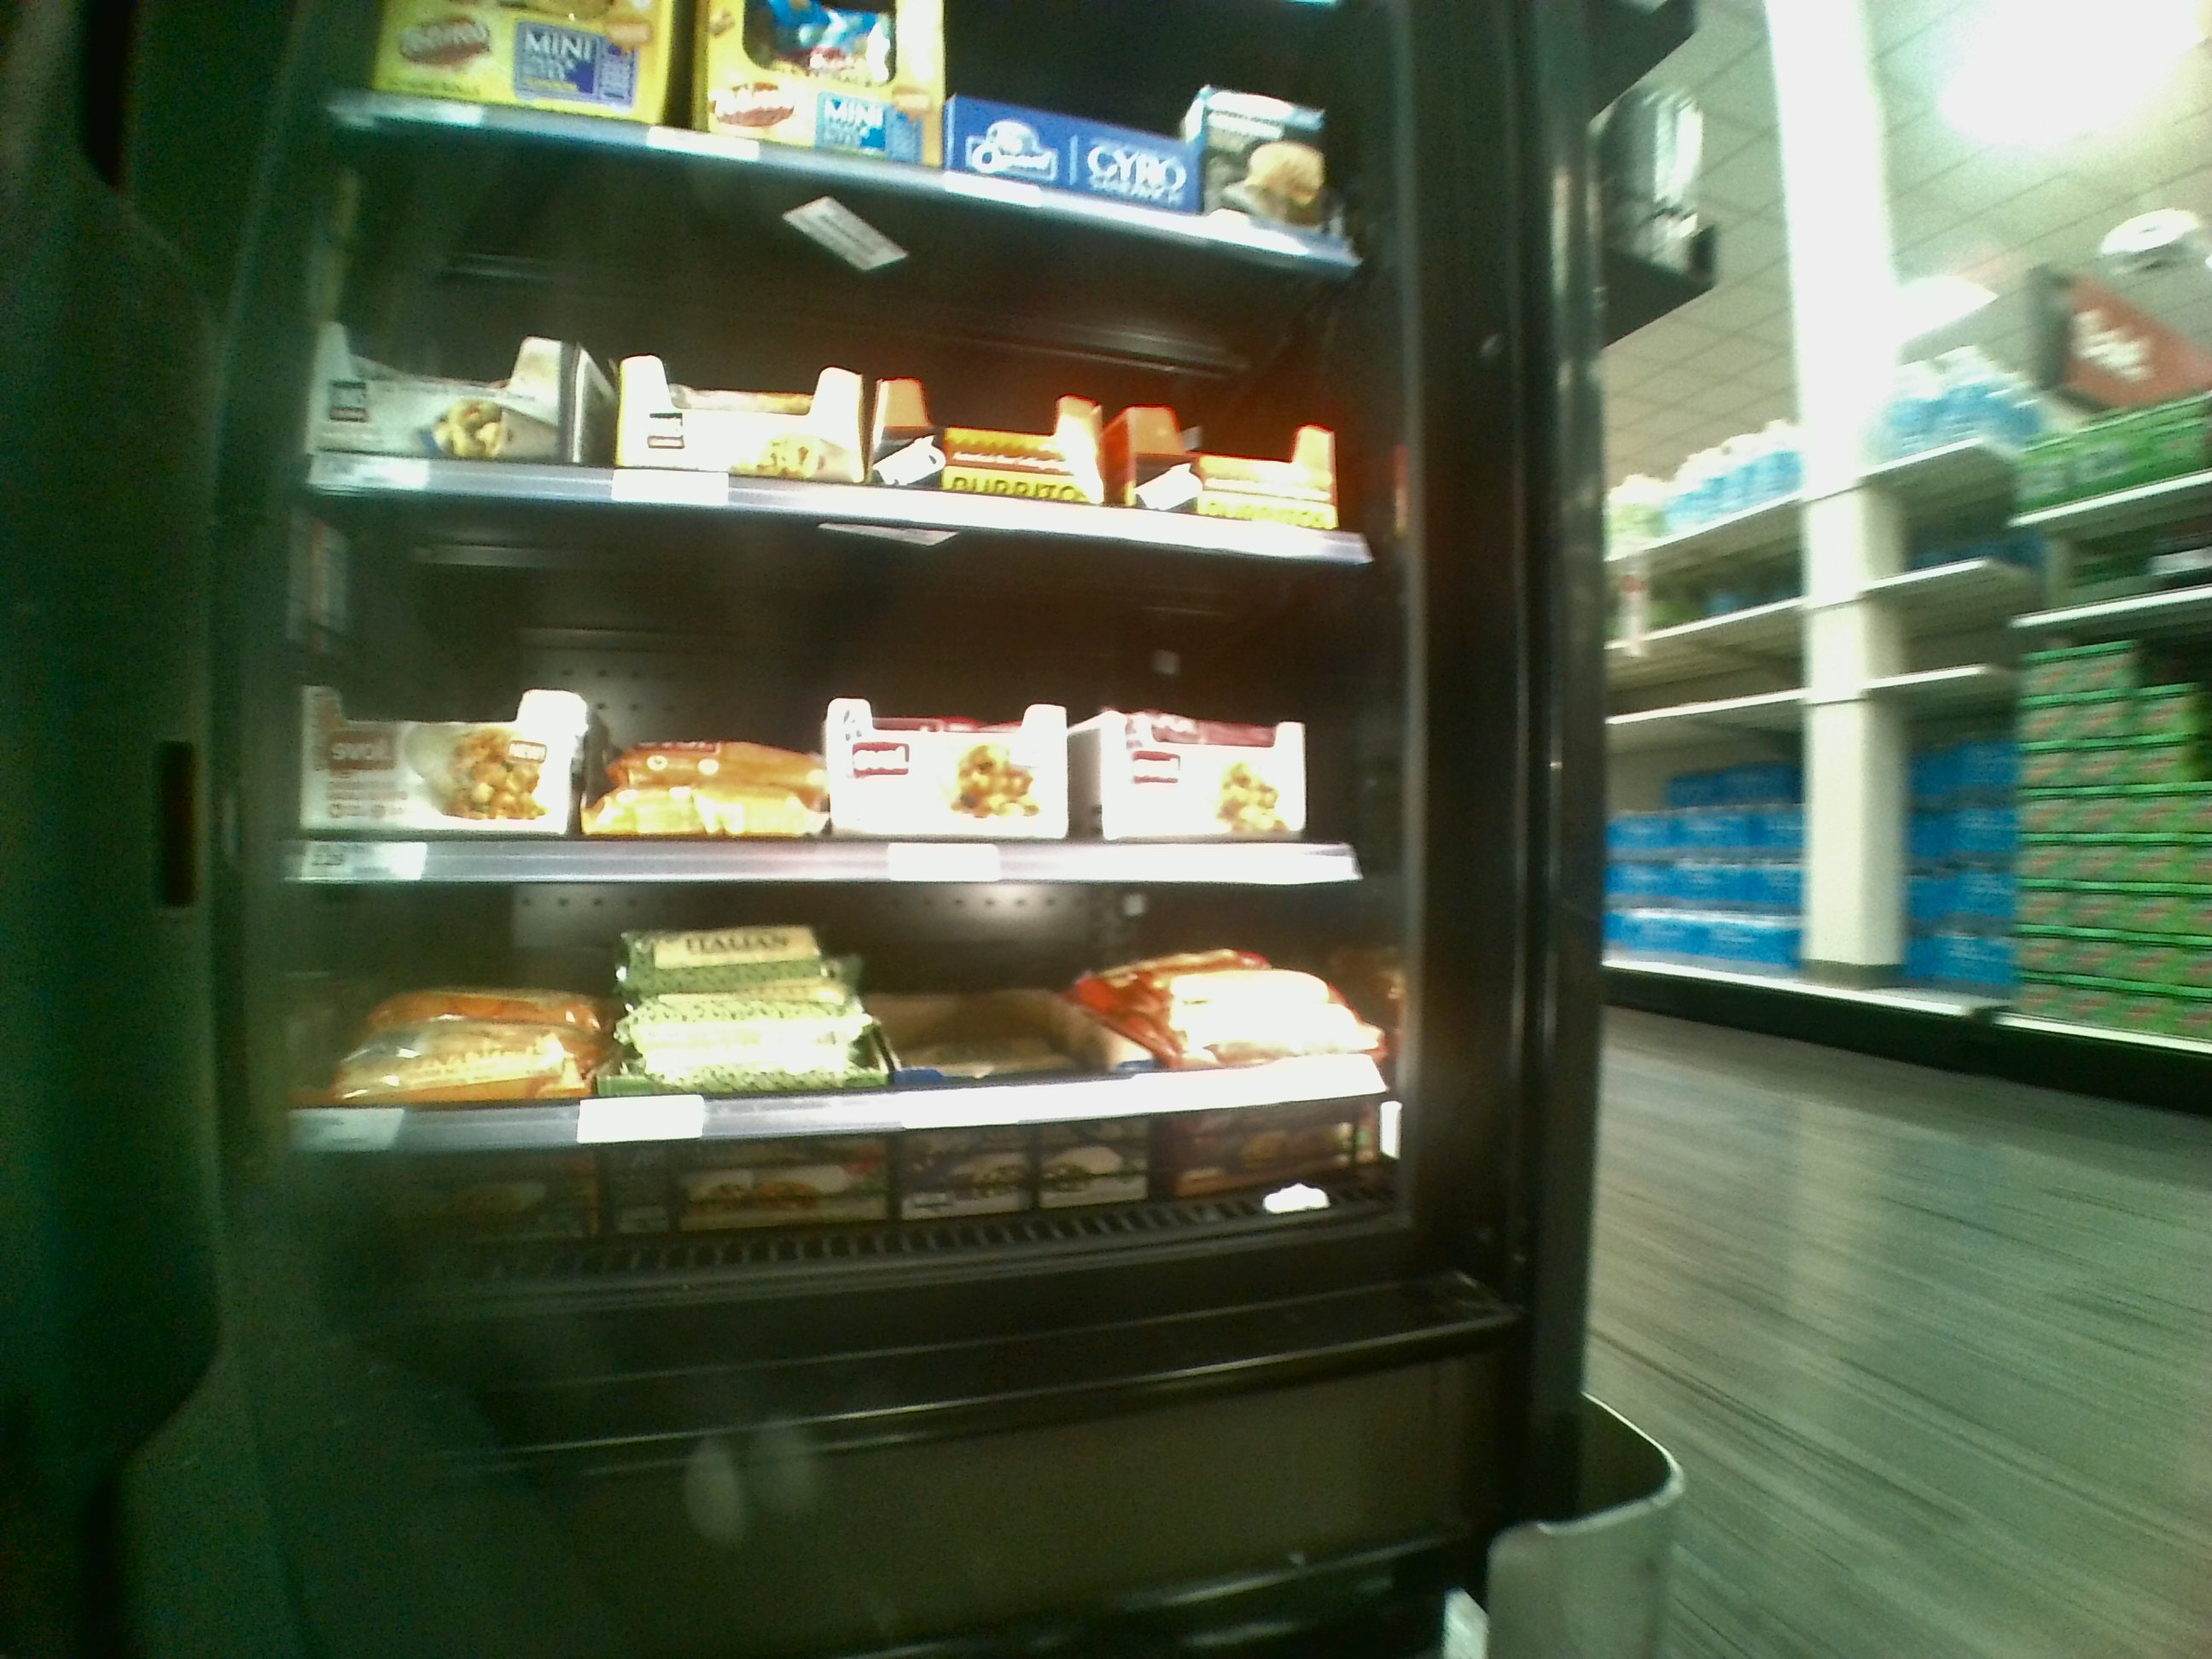shelf: (294, 885, 1409, 1260), (300, 200, 1404, 544), (293, 540, 1406, 878)
